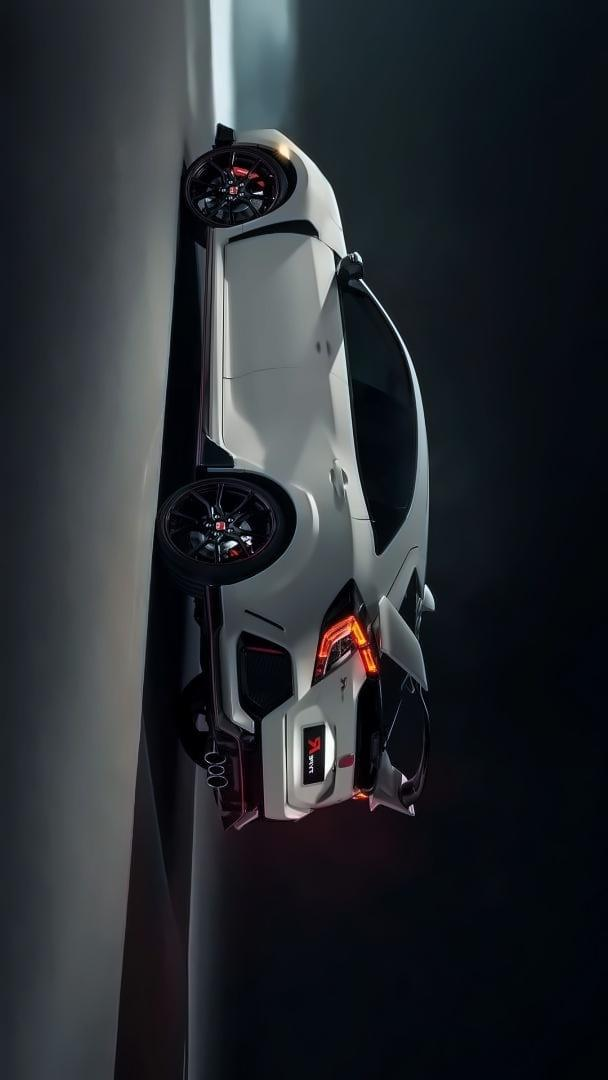Car boot: (278, 638, 388, 815)
Fender - -F-L-: (218, 158, 351, 260)
Fender - -R-L-: (194, 463, 353, 624)
Front bumper: (208, 118, 304, 158)
Passenger-s door - -F-L-: (218, 229, 409, 377)
Passenger-s door - -R-L-: (218, 377, 422, 519)
Rear bumper: (198, 565, 334, 840)
Rear light - -L-: (305, 573, 384, 689)
Rear light - -R-: (349, 769, 378, 807)
Side bumper - -L-: (189, 217, 247, 491)
Side mirror - -L-: (330, 241, 369, 292)
